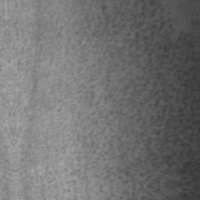pitted_surface: (83, 0, 199, 189)
